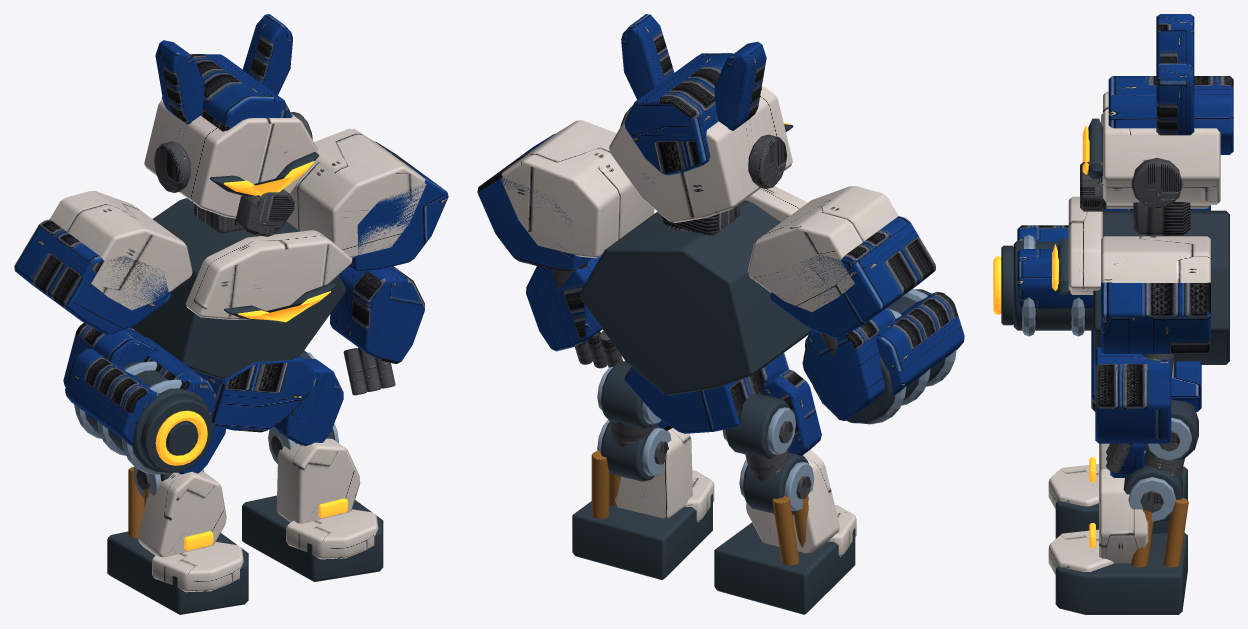
The model's file is scout.glb.
The picture shows the model from 3 angles, left to right: view 1: azimuth 30°, elevation 25°; view 2: azimuth 150°, elevation 25°; view 3: azimuth 270°, elevation 25°; orthographic projection. The views are drawn at different scales.
Visible parts, largest first — view 1: Navy crown, Cuirass yoke, Angular scout torso, Greave armor, Greave armor.001, Neck actuator, Servo housing.004, Servo housing.001, Recessed V optic, Tapered thigh shield.001, Bearing ring, Calf piston; view 2: Navy crown, Cuirass yoke, Angular scout torso, Servo housing.001, Servo housing.004, Greave armor.001, Neck actuator, Greave armor, Tapered thigh shield, Bearing ring.002, Calf piston, Calf piston.002 (+4 smaller); view 3: Navy crown, Cuirass yoke, Angular scout torso, Servo housing.004, Neck actuator, Greave armor.001, Greave armor, Bearing ring.008, Calf piston.002, Servo housing.001, Hub.008, Bearing ring (+2 smaller).
Boxes of the visible parts, x1,y1,x2,y2 form: Navy crown: (14,14,448,446); Cuirass yoke: (50,99,426,319); Angular scout torso: (74,152,345,472); Greave armor: (137,471,243,592); Greave armor.001: (276,438,378,559); Neck actuator: (154,112,395,395); Servo housing.004: (242,350,383,581); Servo housing.001: (107,472,248,614); Recessed V optic: (155,161,330,465); Tapered thigh shield.001: (273,359,343,446); Bearing ring: (74,361,181,474); Calf piston: (128,467,149,538); Navy crown: (477,14,964,433); Cuirass yoke: (501,85,898,311); Angular scout torso: (580,124,945,423); Servo housing.001: (714,393,855,614); Servo housing.004: (572,361,712,579); Greave armor.001: (615,428,714,521); Neck actuator: (553,105,837,368); Greave armor: (746,449,856,556); Tapered thigh shield: (763,369,821,455); Bearing ring.002: (722,407,814,510); Calf piston: (772,495,808,565); Calf piston.002: (591,450,621,518); Navy crown: (1017,14,1233,443); Cuirass yoke: (1068,91,1220,294); Angular scout torso: (1001,118,1229,364); Servo housing.004: (1055,399,1198,614); Neck actuator: (1080,157,1190,472); Greave armor.001: (1048,468,1148,574); Greave armor: (1048,443,1145,508); Bearing ring.008: (1128,417,1191,521); Calf piston.002: (1131,498,1188,567); Servo housing.001: (1055,466,1187,538); Hub.008: (1140,431,1184,512); Bearing ring: (1022,235,1084,336).
Bounding box in the file's own units: 1.17 × 1.52 × 0.634.
Materials: 7 (3 with a texture image).
